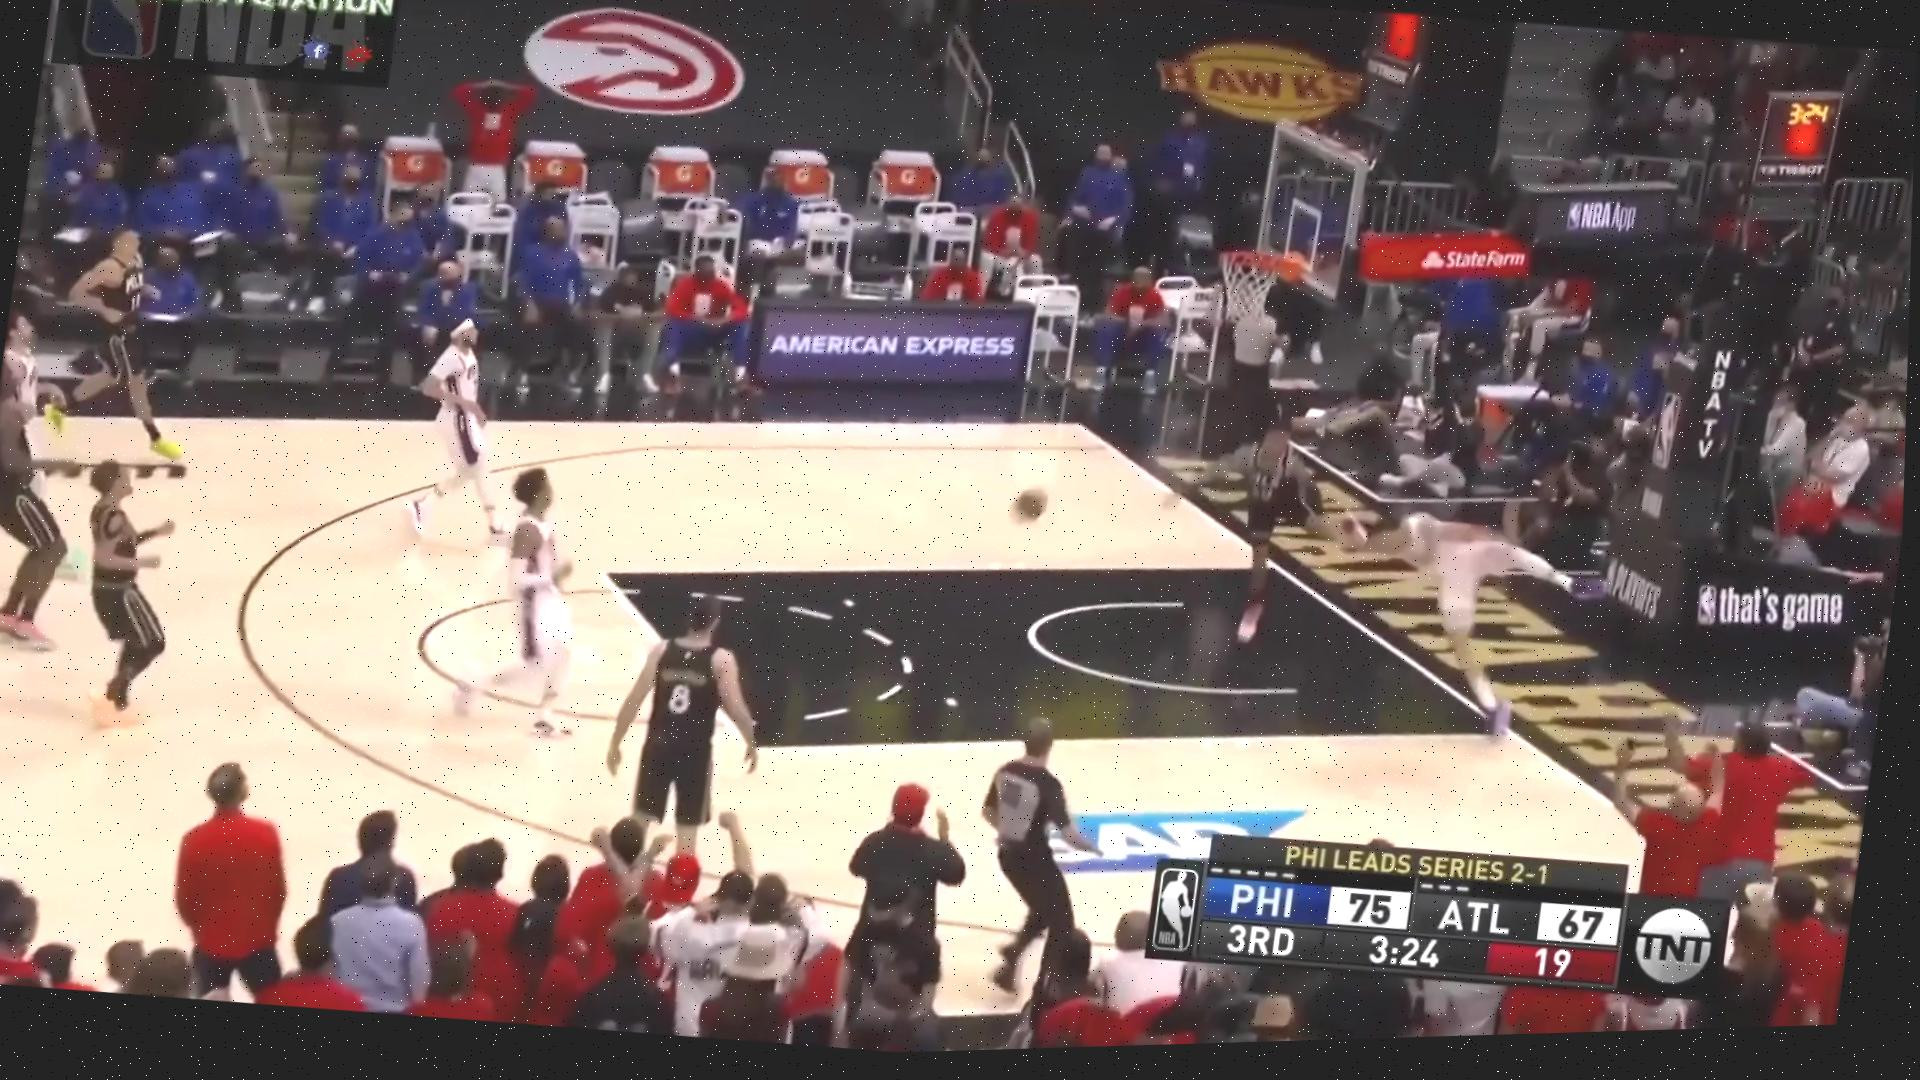no_foul: (1187, 392, 1618, 742)
